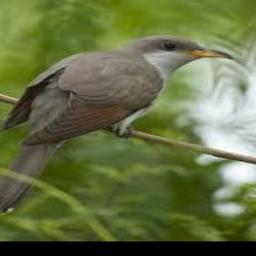Cuckoo: (0, 35, 233, 212)
